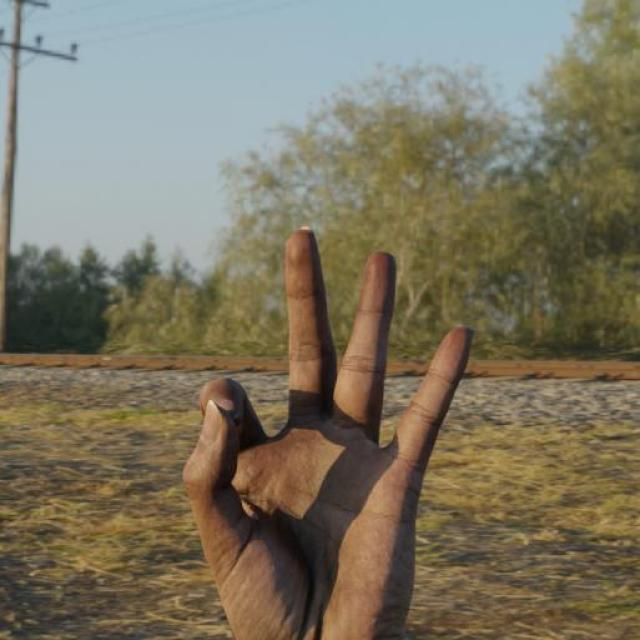F: (176, 221, 479, 640)
